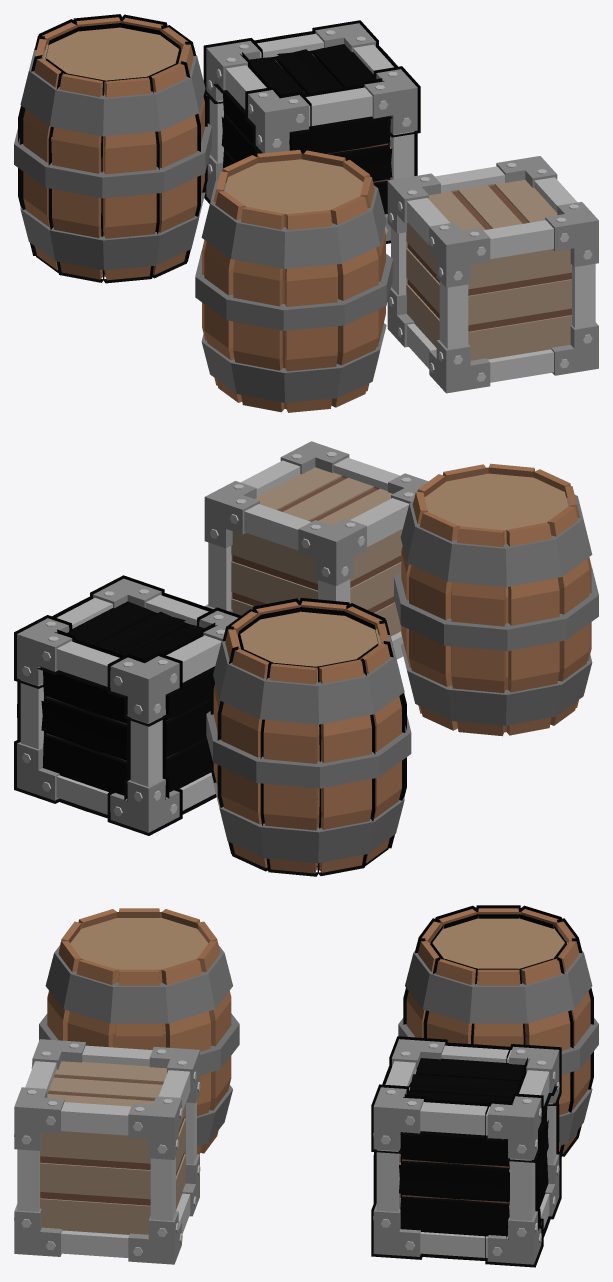
Rendered from Box n Barrel2.fbx.
3 views of the same model, one above another, from view 1: azimuth 30°, elevation 25°; view 2: azimuth 150°, elevation 25°; view 3: azimuth 270°, elevation 25° (orthographic). The views are drawn at different scales.
Parts seen in each view (by area): view 1: Circle.004, Circle.012, Cube.019, Circle.006; view 2: Circle.004, Circle.012, Circle.006, Cube.019; view 3: Circle.006, Cube.019, Circle.004, Circle.012.
Boxes of the visible parts, bbox=[...] form: Circle.004: bbox=[14, 14, 211, 283]; Circle.012: bbox=[195, 150, 392, 412]; Cube.019: bbox=[387, 156, 598, 393]; Circle.006: bbox=[203, 20, 420, 243]; Circle.004: bbox=[206, 598, 411, 876]; Circle.012: bbox=[394, 463, 598, 736]; Circle.006: bbox=[14, 575, 240, 835]; Cube.019: bbox=[204, 441, 428, 659]; Circle.006: bbox=[371, 1036, 561, 1267]; Cube.019: bbox=[14, 1039, 200, 1264]; Circle.004: bbox=[398, 905, 598, 1156]; Circle.012: bbox=[39, 908, 239, 1154].
Size of the model in its own units: 20.62 by 11.49 by 30.15.
